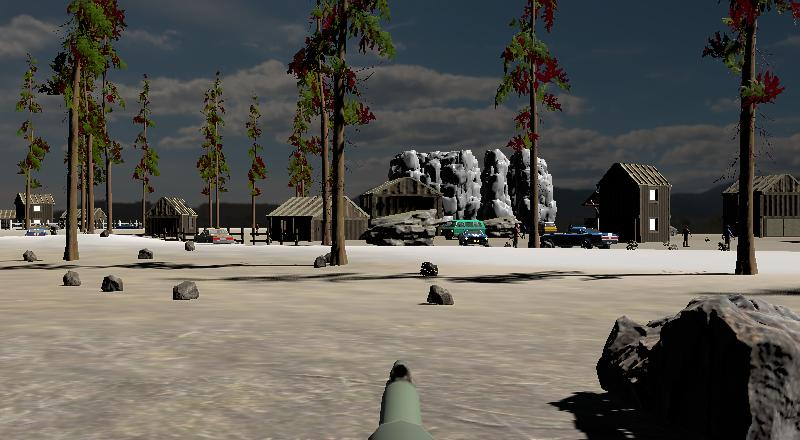House: (594, 160, 673, 245), (722, 173, 800, 238), (268, 194, 369, 241), (146, 195, 199, 239), (14, 192, 55, 232), (0, 209, 15, 230)
car: (540, 226, 620, 250), (544, 226, 618, 249), (442, 218, 488, 241), (459, 229, 491, 248), (536, 220, 559, 237), (539, 221, 559, 237), (23, 226, 50, 237)
